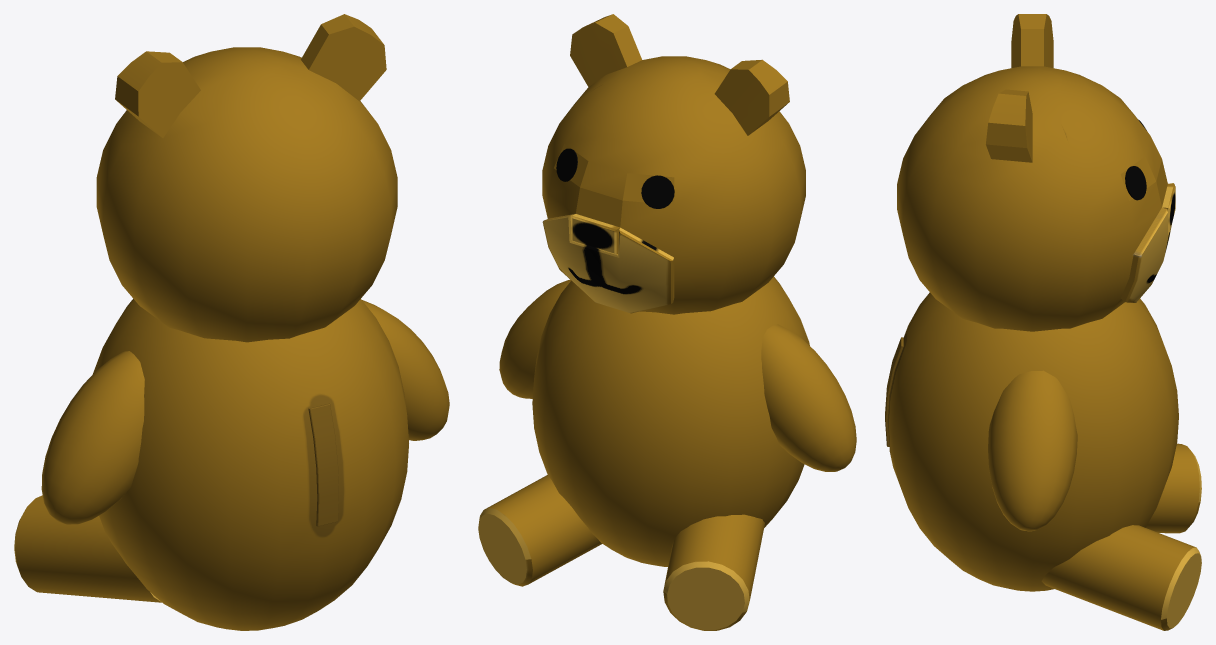
The model's file is bear.fbx.
3 renders of one model, left to right at view 1: azimuth 30°, elevation 25°; view 2: azimuth 150°, elevation 25°; view 3: azimuth 270°, elevation 25°, orthographic. The views are drawn at different scales.
Parts seen in each view (by area): view 1: pCylinder3; view 2: pCylinder3; view 3: pCylinder3.
Boxes of the visible parts, x1,y1,x2,y2 form: pCylinder3: (14, 14, 449, 630); pCylinder3: (478, 14, 856, 630); pCylinder3: (885, 14, 1201, 630).
Size of the model in its own units: 4.88 by 6.85 by 3.74.
